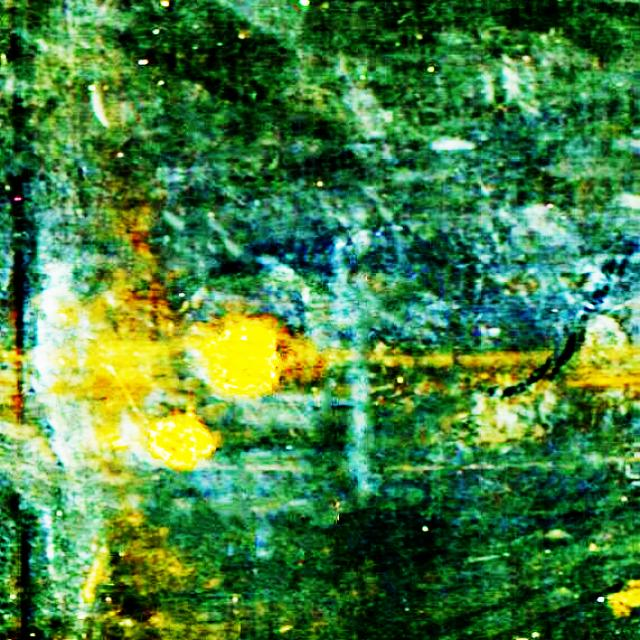Corrosion: (205, 327, 278, 392), (150, 415, 213, 468)
